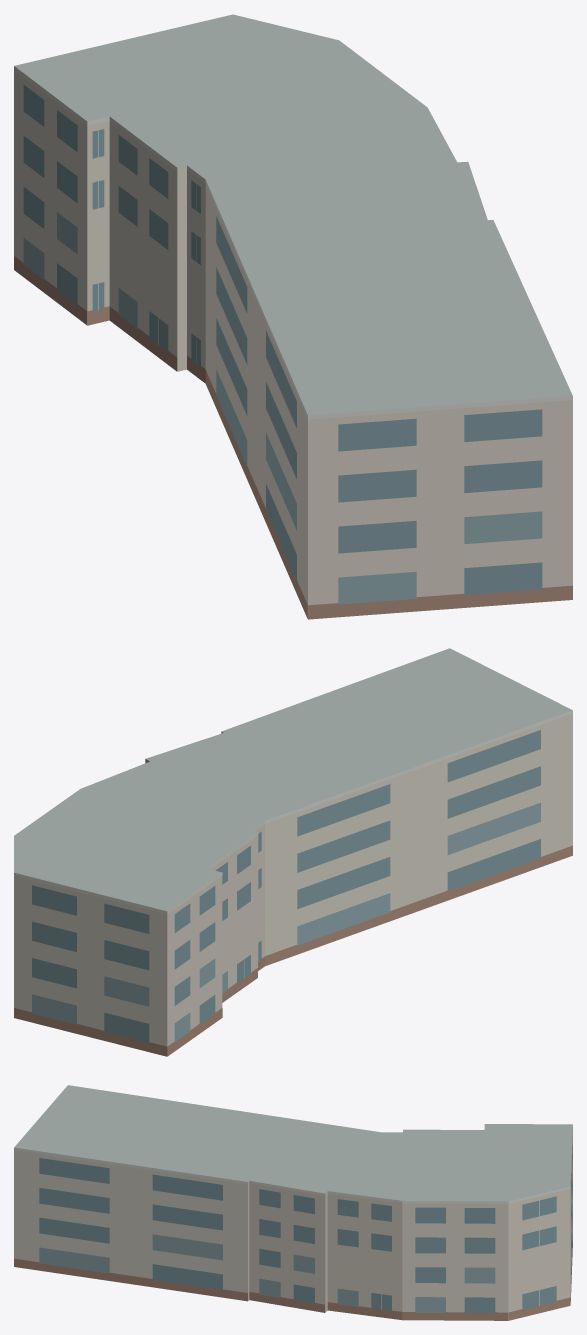
Rendered from survey-upis-32602969.glb.
3 renders of one model, top to bottom at view 1: azimuth 30°, elevation 25°; view 2: azimuth 150°, elevation 25°; view 3: azimuth 270°, elevation 25°, orthographic. The views are drawn at different scales.
Parts seen in each view (by area): view 1: survey-upis-32602969.tmp; view 2: survey-upis-32602969.tmp; view 3: survey-upis-32602969.tmp.
Part boxes in pixels (bbox=[...]): survey-upis-32602969.tmp: bbox=[14, 14, 572, 619]; survey-upis-32602969.tmp: bbox=[14, 648, 572, 1056]; survey-upis-32602969.tmp: bbox=[14, 1085, 572, 1320].
Size of the model in its own units: 24.9 by 11.9 by 50.5.
